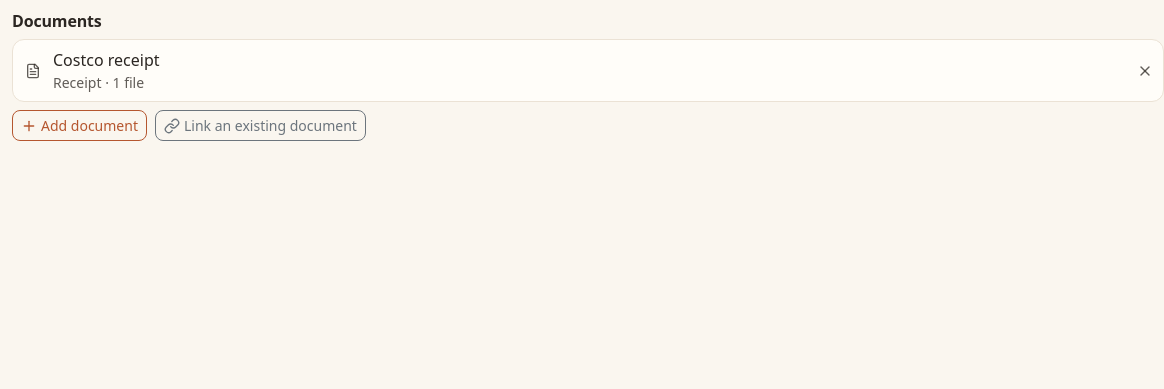
TransactionDocumentsComponent › links an existing document from a search, then lists it
Click the button "Link an existing document" at coordinates (260, 126), box x1=155 y1=110 x2=366 y2=141
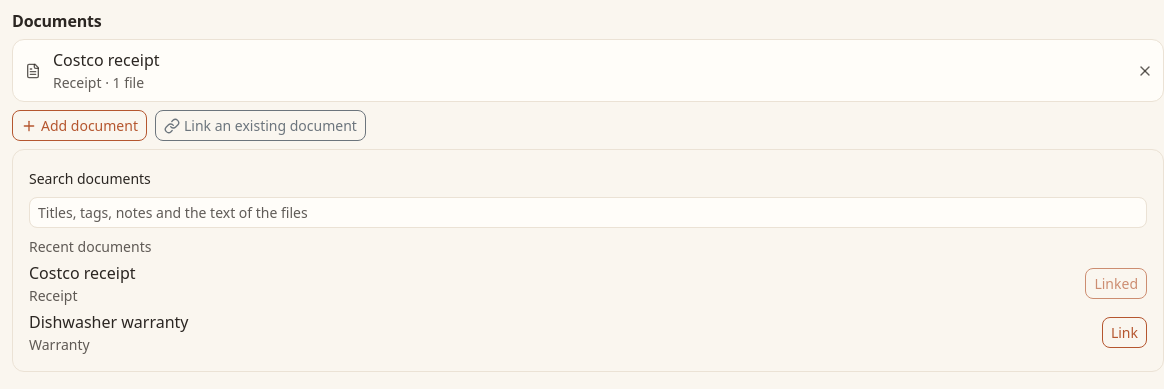
Expected: the button with aria-label "Link Costco receipt" reads "Linked", x1=1085 y1=268 x2=1147 y2=299
Expected: the button with aria-label "Link Costco receipt" is disabled, x1=1085 y1=268 x2=1147 y2=299
Type " warranty " into the search field with id "transaction-documents-search" at coordinates (588, 213), box x1=29 y1=197 x2=1147 y2=228
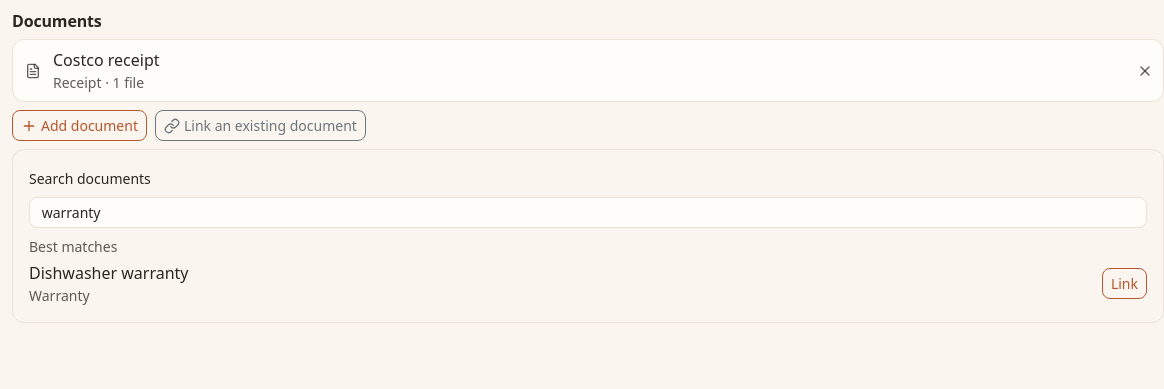
Click the button with aria-label "Link Dishwasher warranty" at coordinates (1124, 284), box x1=1102 y1=268 x2=1147 y2=299
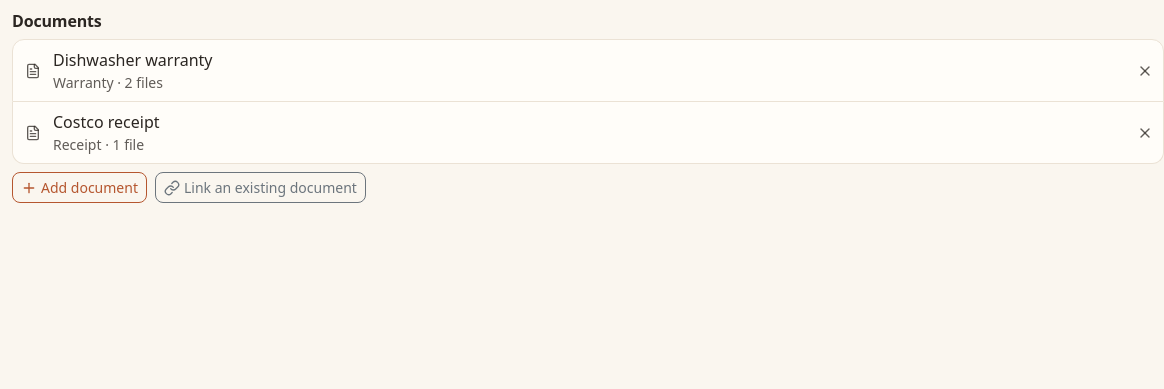
Expected: the label with id "transaction-documents-search" is gone
Expected: the number of list items is 2, x1=12 y1=39 x2=1163 y2=102; x1=12 y1=102 x2=1163 y2=164
